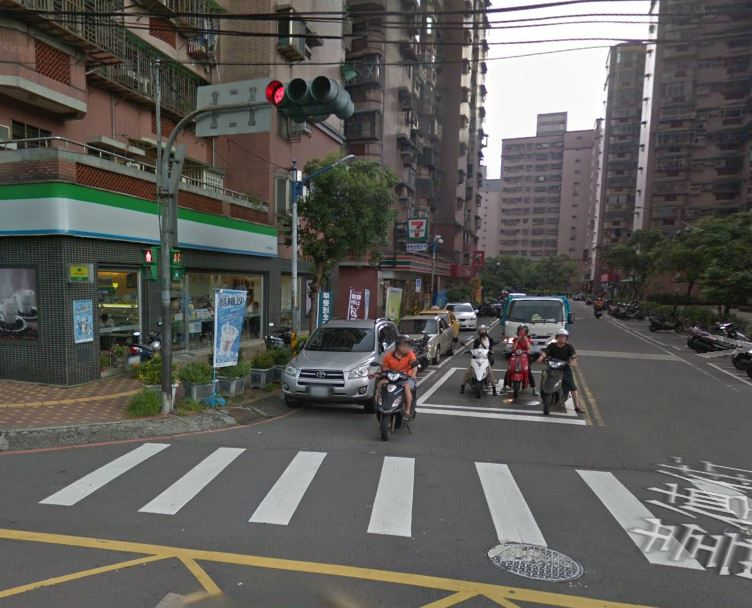Traffic_light_red: (264, 76, 342, 106)
